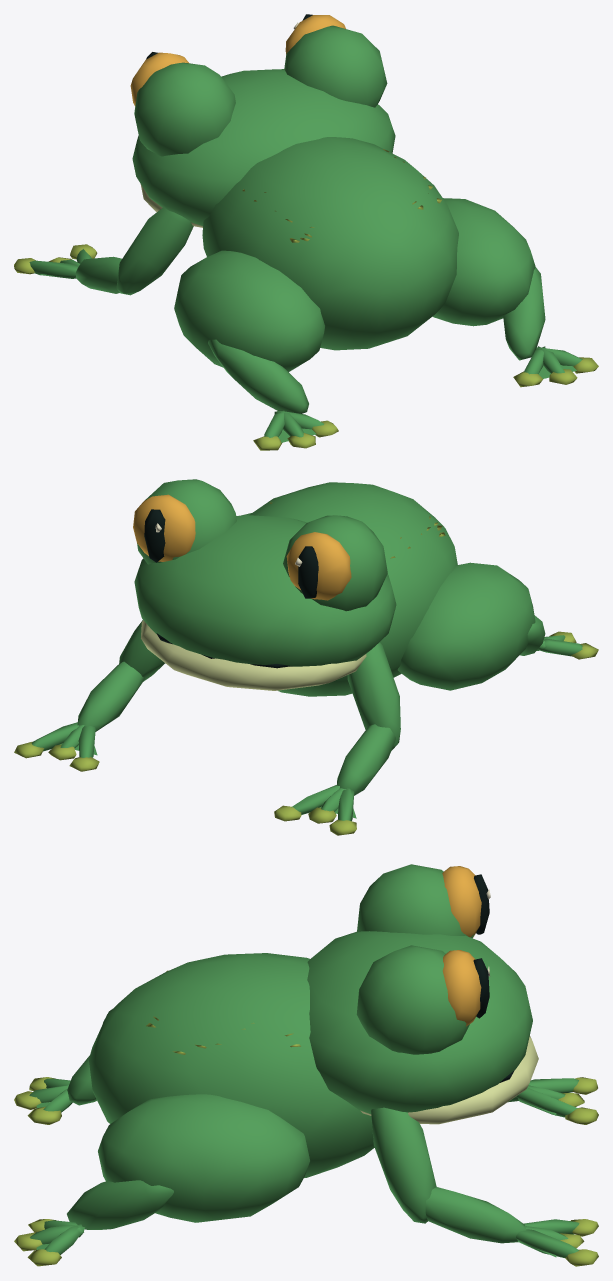
Rendered from frog-vlow.glb.
3 views of the same model, one above another, from view 1: azimuth 30°, elevation 25°; view 2: azimuth 150°, elevation 25°; view 3: azimuth 270°, elevation 25° (orthographic). The views are drawn at different scales.
Parts seen in each view (by area): view 1: FROG; view 2: FROG; view 3: FROG.
Boxes of the visible parts, x1,y1,x2,y2 form: FROG: (14, 14, 598, 450); FROG: (14, 479, 598, 835); FROG: (14, 864, 598, 1266).
Size of the model in its own units: 0.7569 by 0.5121 by 1.01.
